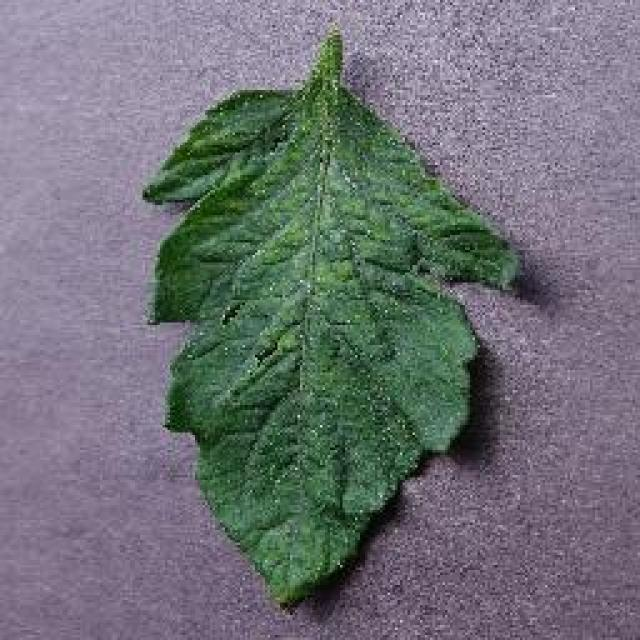Tomato___Tomato_mosaic_virus: (142, 30, 518, 600)
